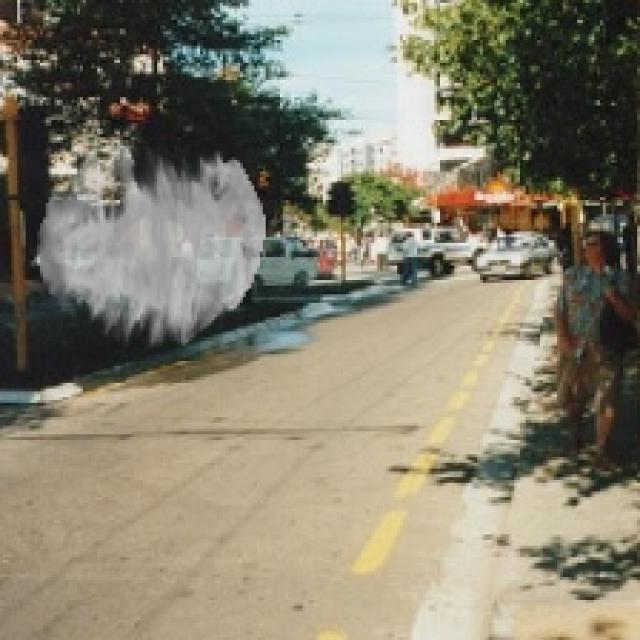Smoke: (37, 142, 266, 348)
